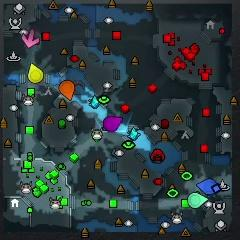p1: (198, 178, 217, 194)
p2: (188, 193, 208, 208)
p3: (103, 116, 122, 132)
p4: (28, 63, 44, 83)
p5: (59, 81, 75, 101)
x1: (22, 29, 39, 48)
